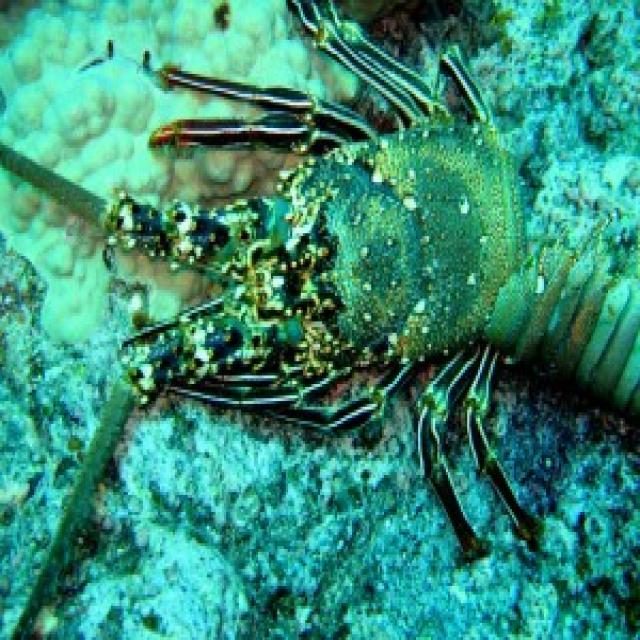lobsters: (96, 0, 640, 638)
